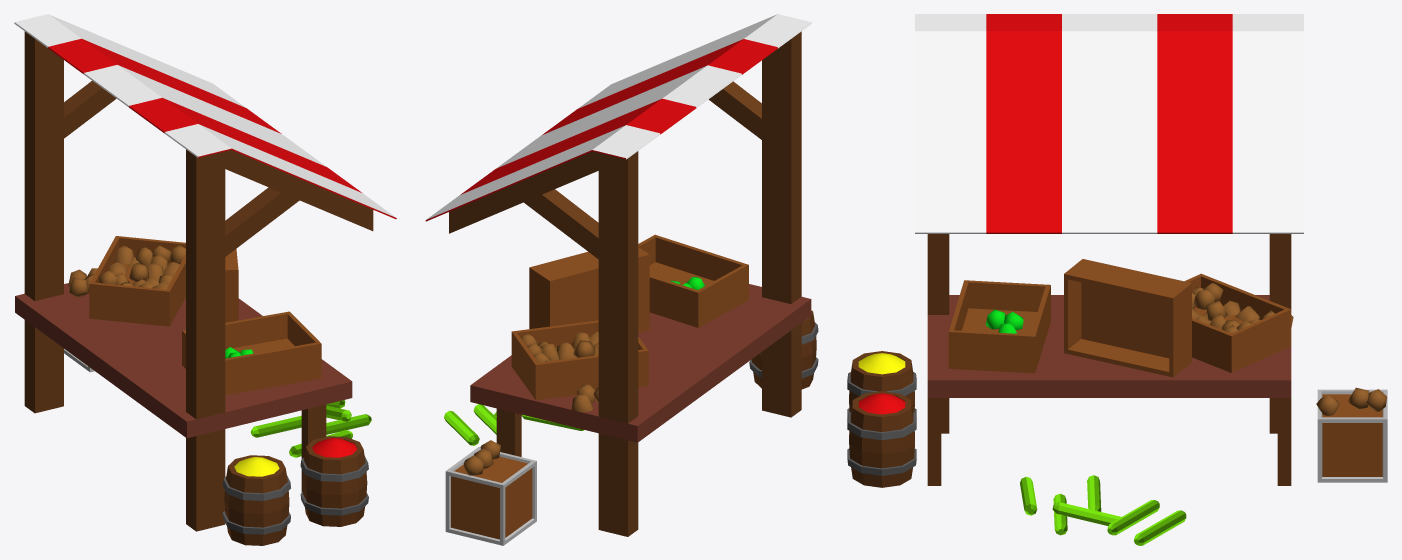
Rendered from stall 2.fbx.
3 views of the same model, side by side, from view 1: azimuth 30°, elevation 25°; view 2: azimuth 150°, elevation 25°; view 3: azimuth 270°, elevation 25° (orthographic). The views are drawn at different scales.
Visible parts, largest first — view 1: stall 2, trey bruin.001, trey green.001, barrel yellow.002, barrel red.001, trey komkommer.002; view 2: stall 2, trey bruin.001, trey green.001, crates.007, trey komkommer.002, barrel yellow.002; view 3: stall 2, trey komkommer.002, trey green.001, trey bruin.001, barrel red.001, crates.007, barrel yellow.002.
Part boxes in pixels (left/top/right/bottom): stall 2: left=14, top=14, right=396, bottom=531; trey bruin.001: left=68, top=236, right=185, bottom=326; trey green.001: left=182, top=311, right=321, bottom=395; barrel yellow.002: left=222, top=455, right=290, bottom=545; barrel red.001: left=300, top=436, right=368, bottom=526; trey komkommer.002: left=225, top=249, right=371, bottom=457; stall 2: left=425, top=14, right=811, bottom=536; trey bruin.001: left=463, top=320, right=648, bottom=475; trey green.001: left=638, top=234, right=748, bottom=327; crates.007: left=445, top=447, right=536, bottom=545; trey komkommer.002: left=444, top=247, right=649, bottom=445; barrel yellow.002: left=749, top=310, right=818, bottom=389; stall 2: left=915, top=14, right=1303, bottom=485; trey komkommer.002: left=1020, top=259, right=1191, bottom=545; trey green.001: left=948, top=280, right=1050, bottom=373; trey bruin.001: left=1185, top=273, right=1386, bottom=415; barrel red.001: left=847, top=391, right=916, bottom=487; crates.007: left=1317, top=389, right=1387, bottom=482; barrel yellow.002: left=847, top=351, right=916, bottom=418.
Size of the model in its own units: 3.33 by 4.64 by 5.61.
